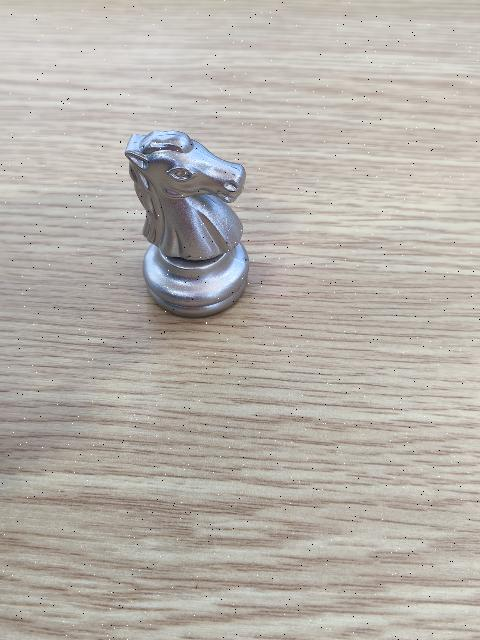white_knight: (122, 130, 252, 316)
